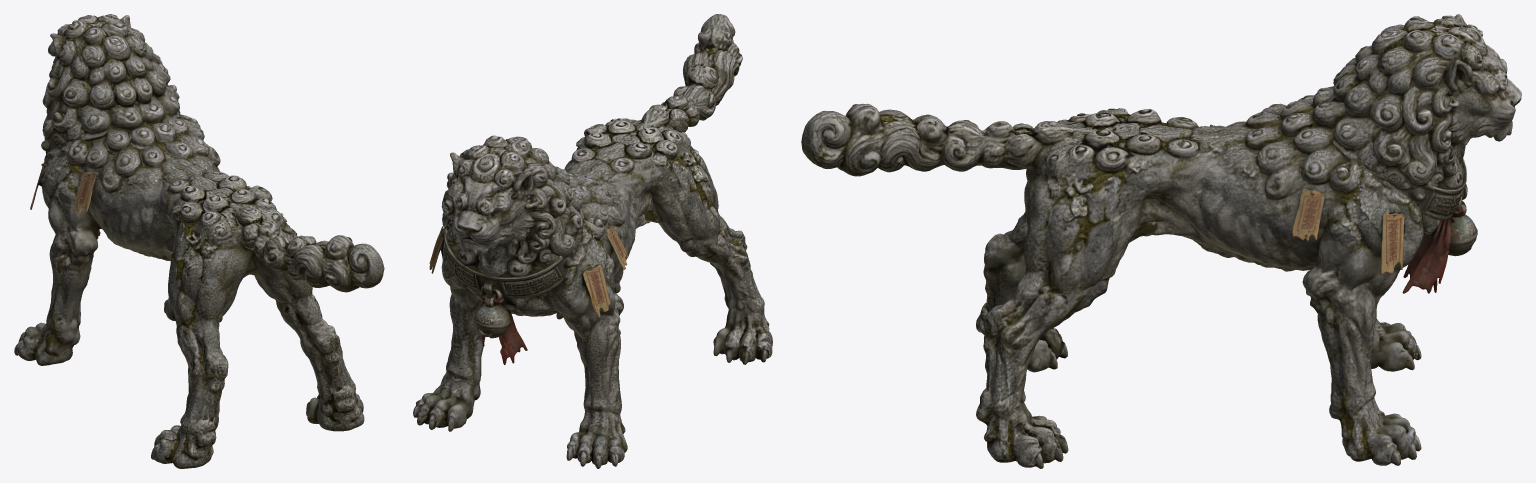
Rendered from stone-beast.glb.
3 renders of one model, left to right at view 1: azimuth 30°, elevation 25°; view 2: azimuth 150°, elevation 25°; view 3: azimuth 270°, elevation 25°, orthographic. The views are drawn at different scales.
Visible parts, largest first — view 1: tripo_node_3c1d9809-064e-4114-b2e7-b79c9c05a822; view 2: tripo_node_3c1d9809-064e-4114-b2e7-b79c9c05a822; view 3: tripo_node_3c1d9809-064e-4114-b2e7-b79c9c05a822.
Part boxes in pixels (x1,y1,x2,y2): tripo_node_3c1d9809-064e-4114-b2e7-b79c9c05a822: (14,14,384,468); tripo_node_3c1d9809-064e-4114-b2e7-b79c9c05a822: (413,14,772,468); tripo_node_3c1d9809-064e-4114-b2e7-b79c9c05a822: (801,14,1521,468).
Bounding box in the file's own units: 0.423 × 0.5857 × 1.
Materials: 1 (1 with a texture image).
